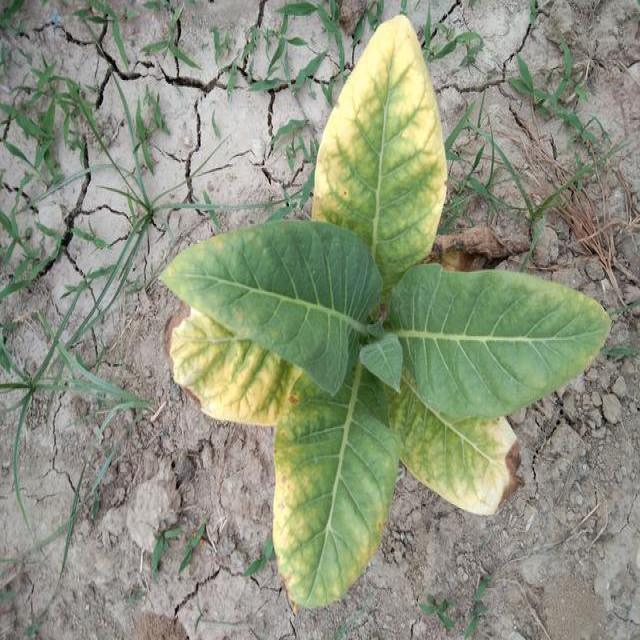crop: (163, 16, 606, 608)
